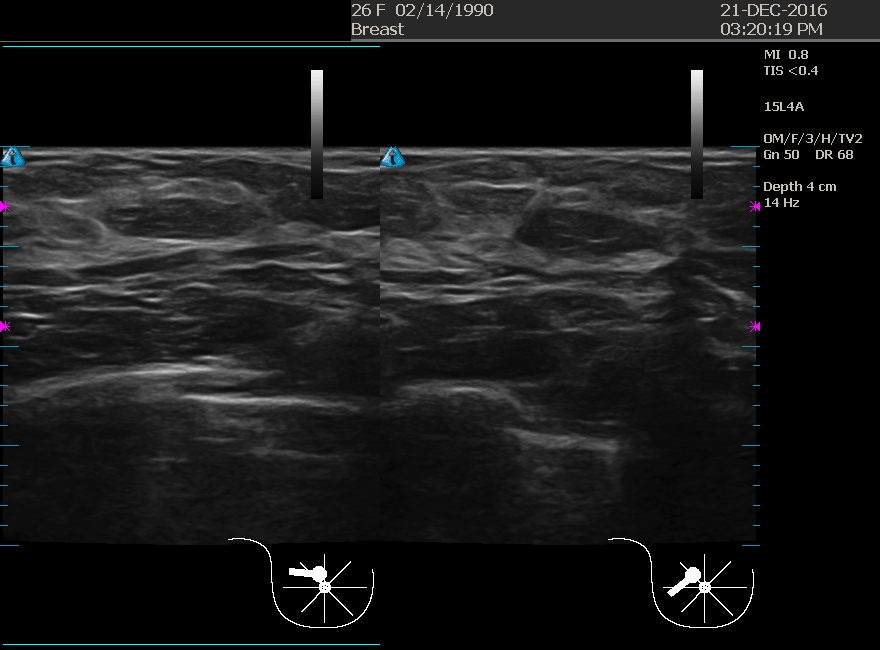BIRADS_3: (73, 152, 273, 352), (488, 152, 688, 352)
